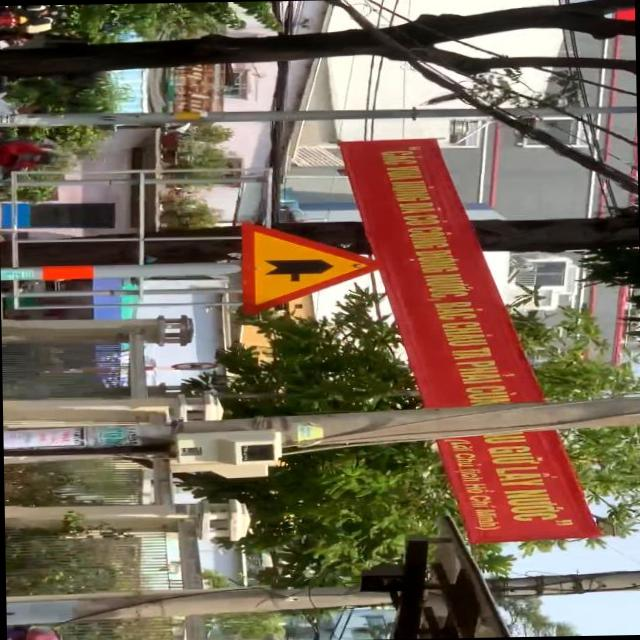W-207b: (236, 220, 384, 314)
